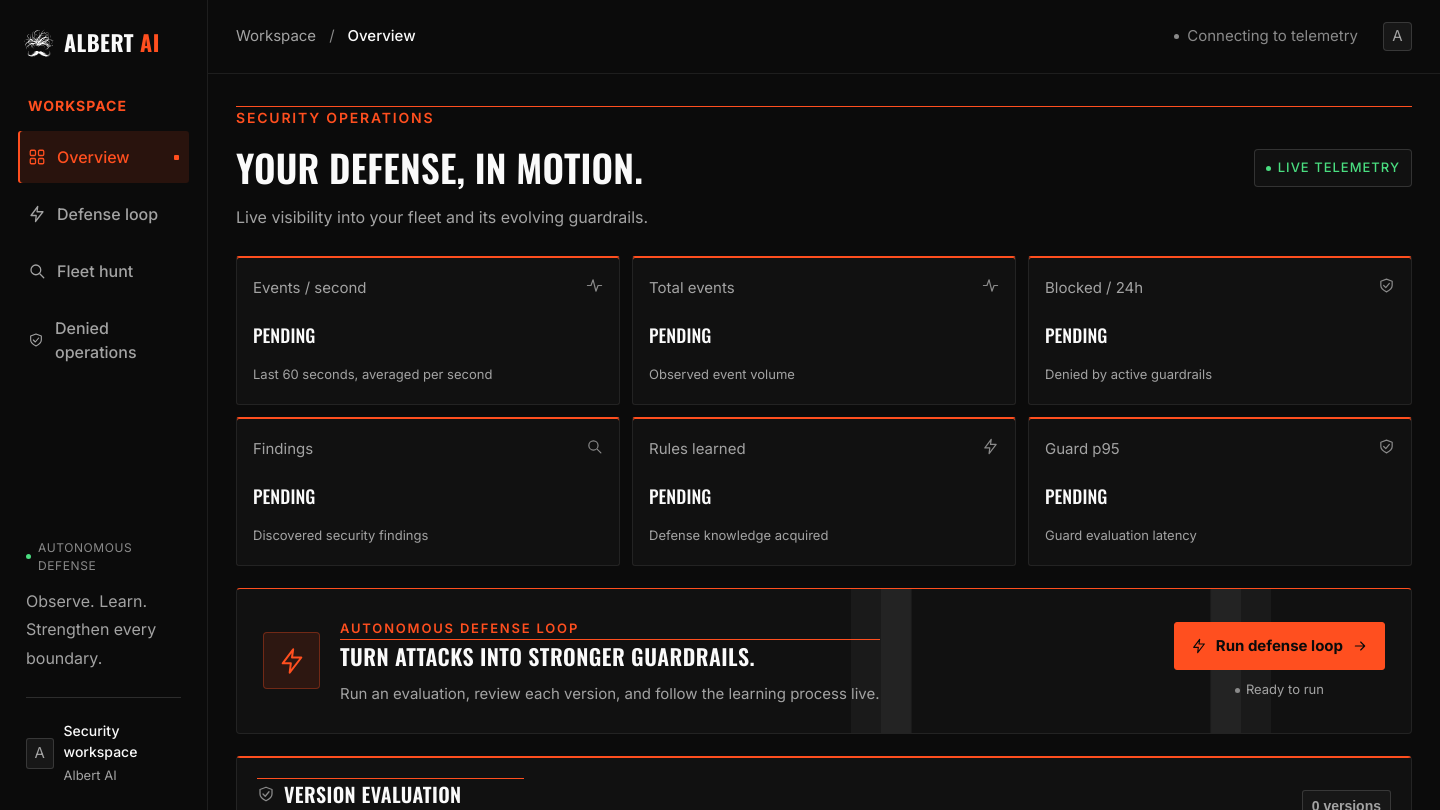
Test: Albert AI dashboard › surfaces a start request failure and enables retry
Step 1. Click the button "Run defense loop" → click(1279, 646), box [1174,622,1385,670]
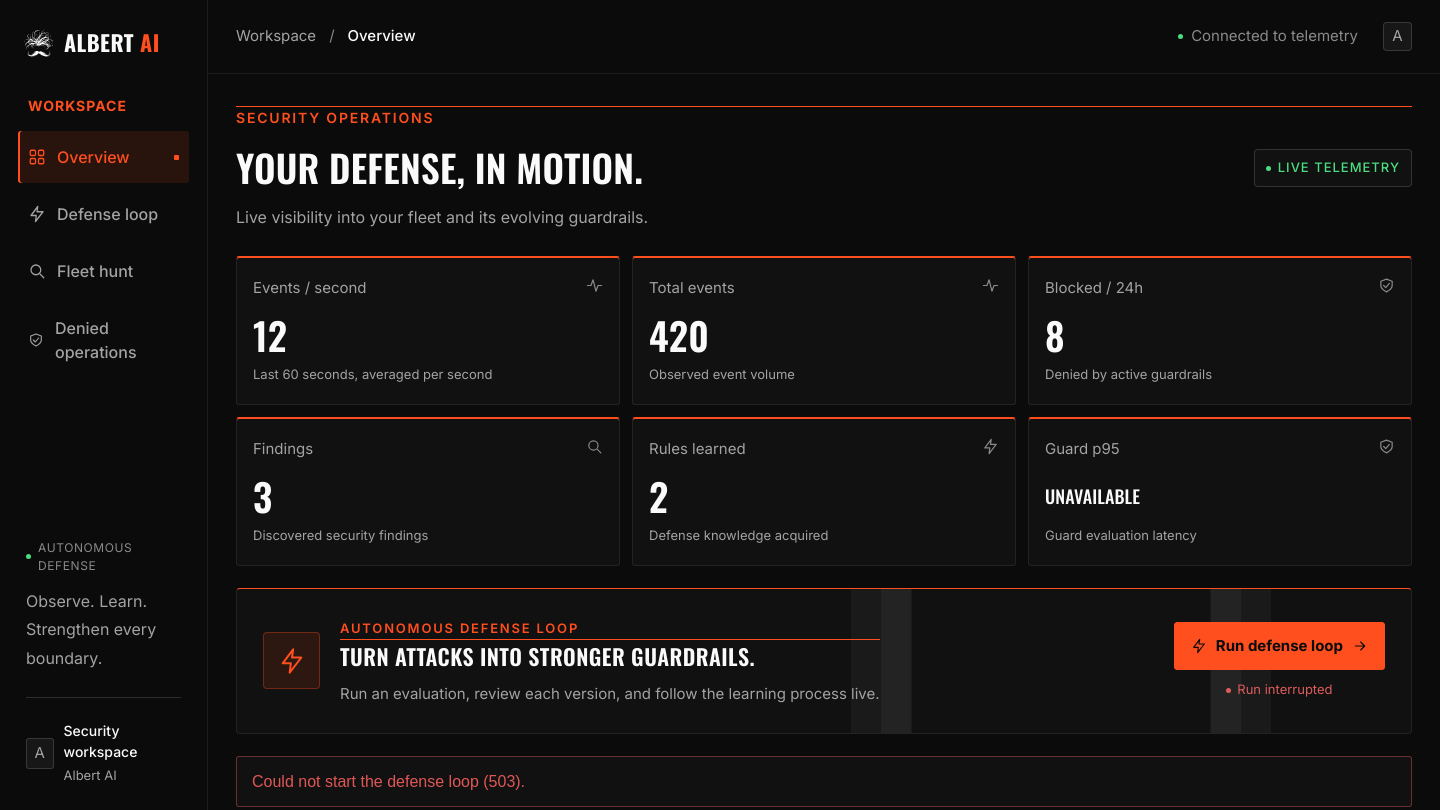
expect the message shows "503": met, box [252,773,525,790]
